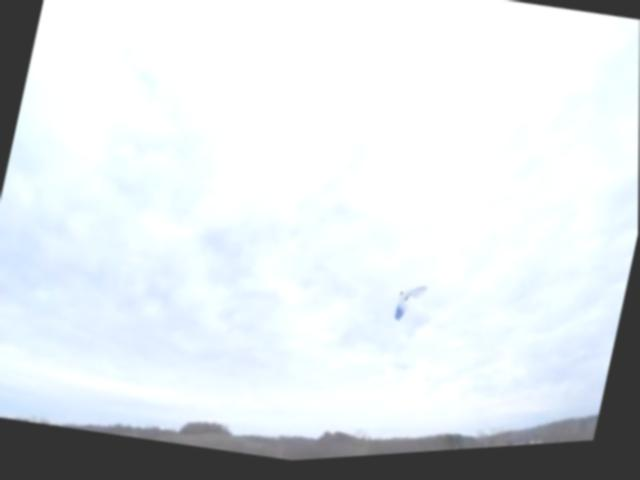flying wing: (388, 283, 431, 334)
